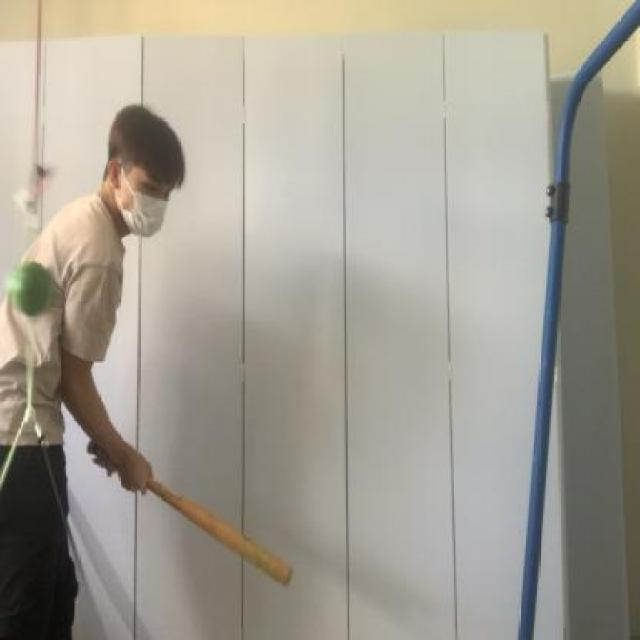baseball: (6, 252, 54, 312)
